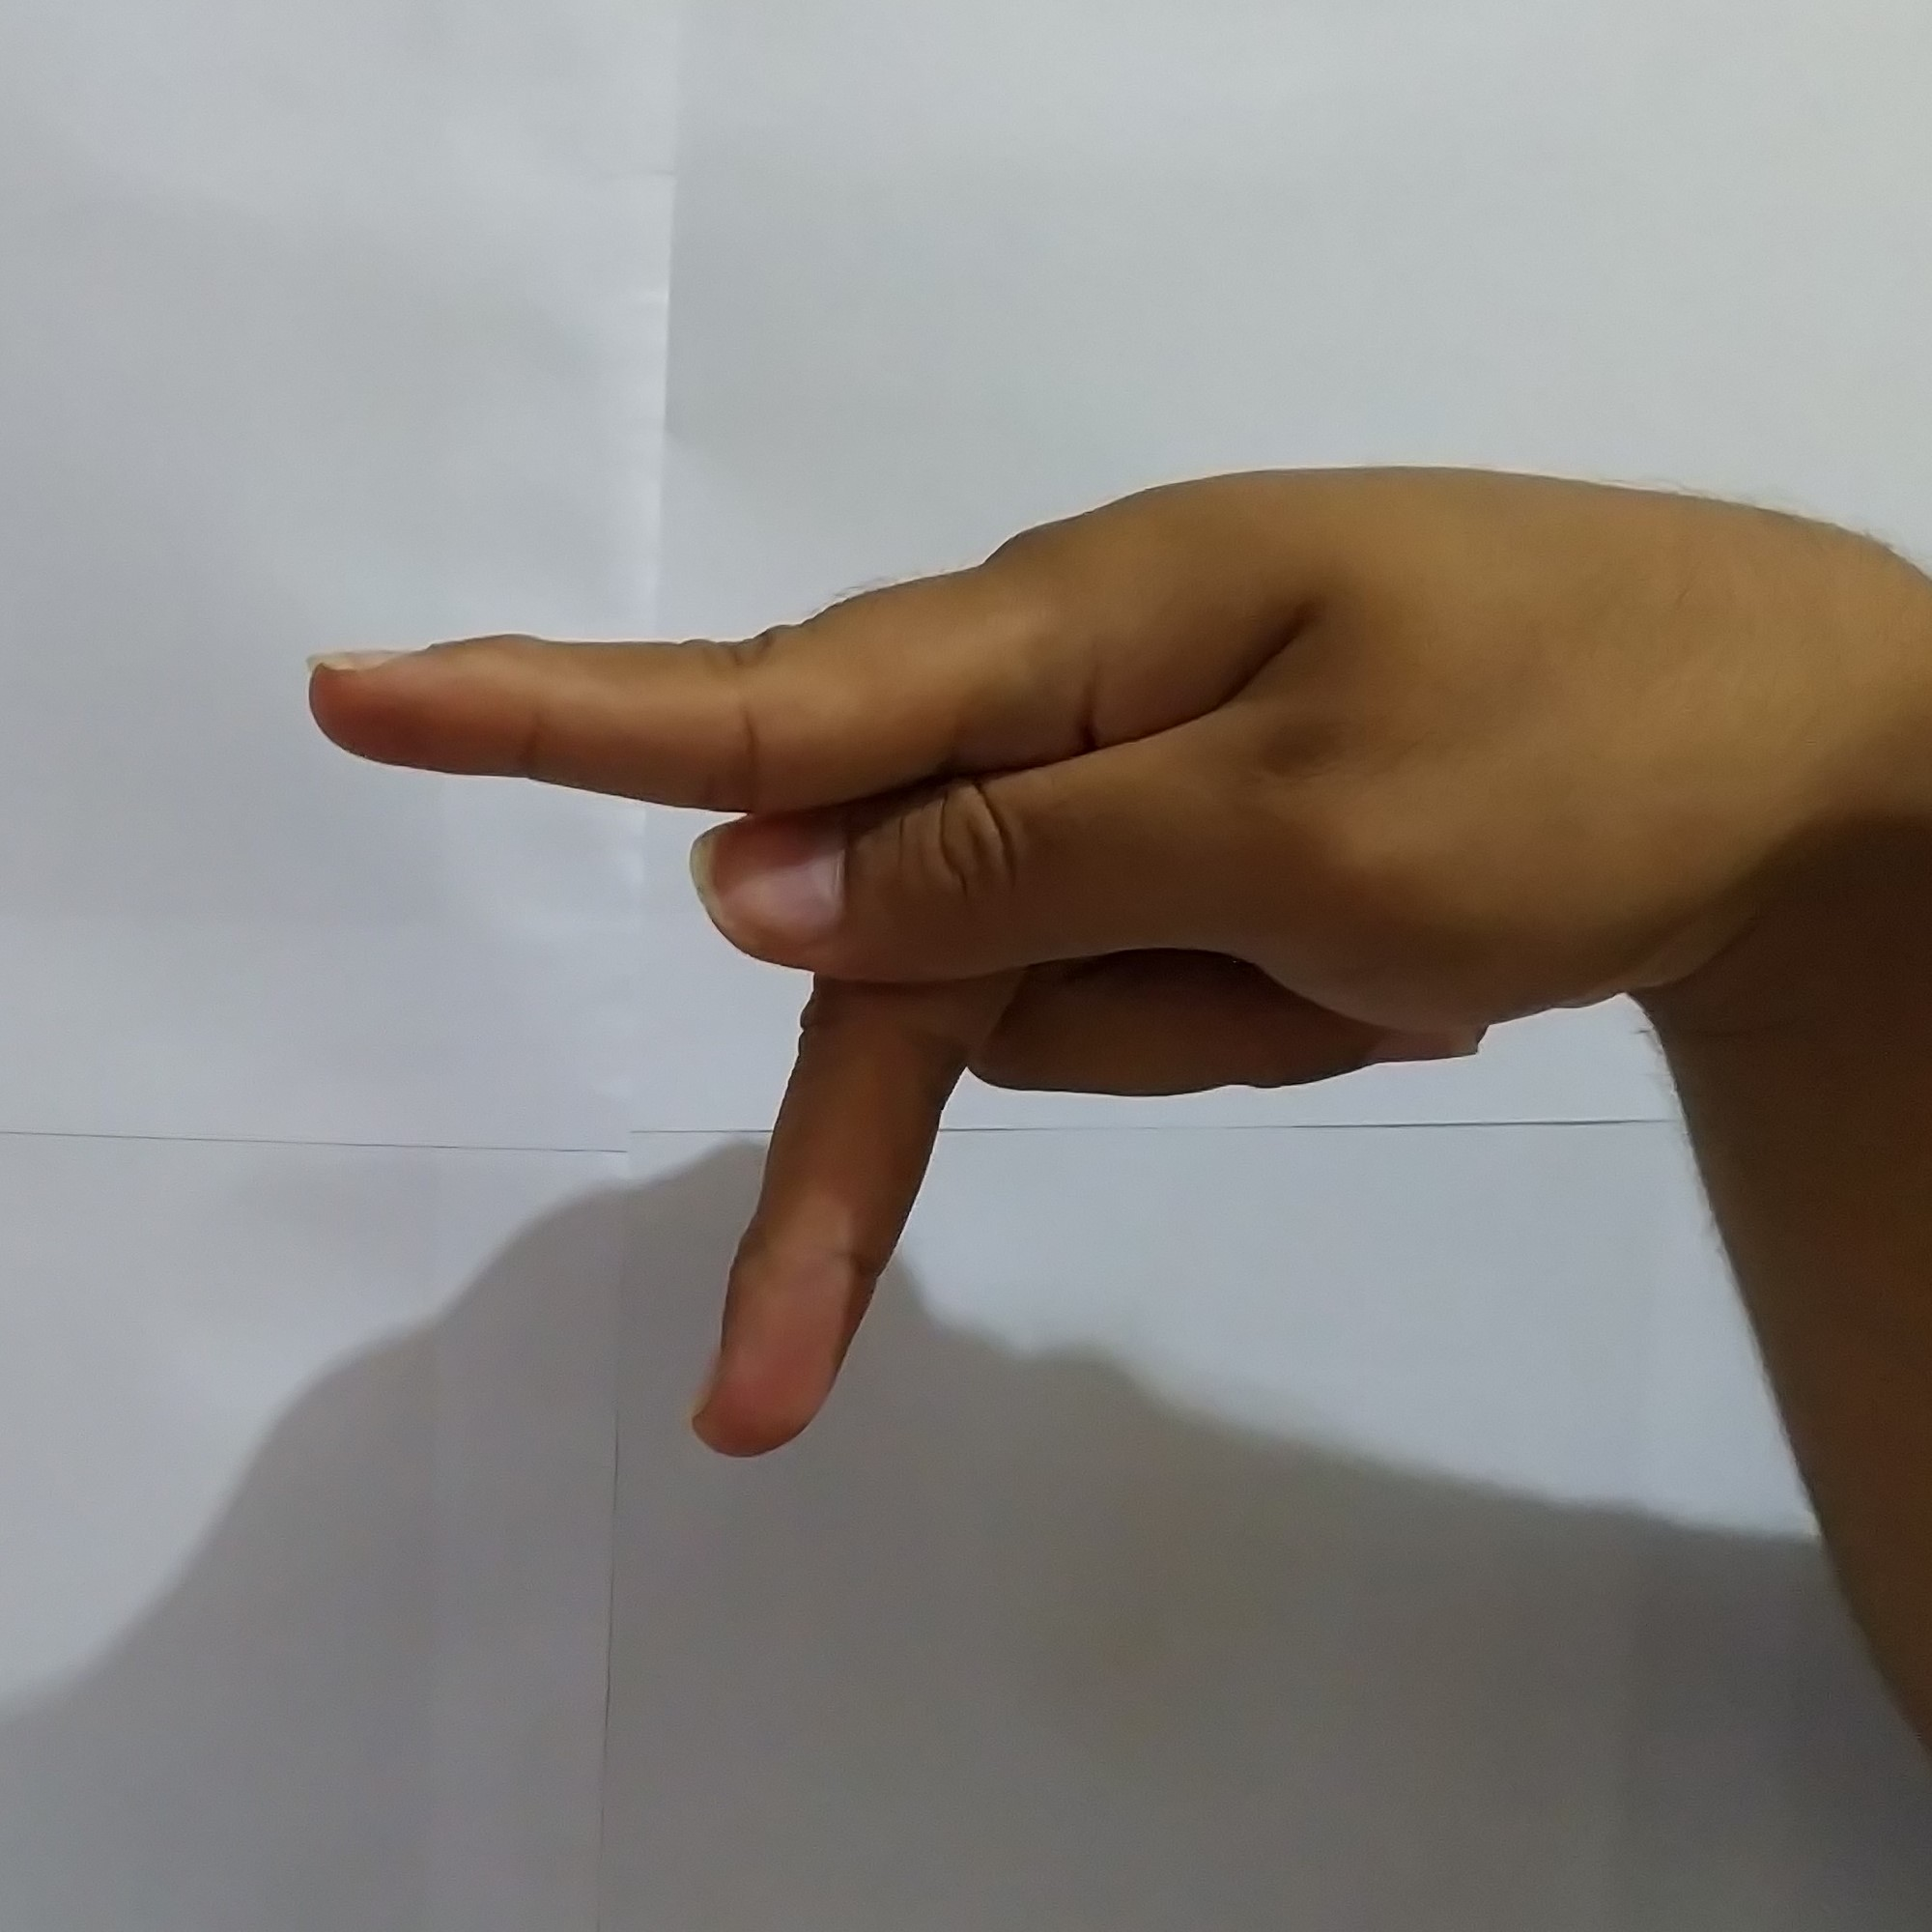P: (272, 435, 1932, 1484)
